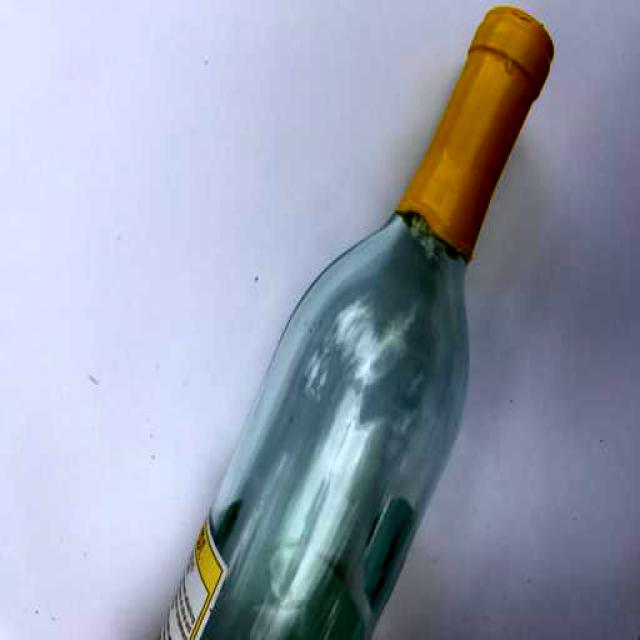Glass: (149, 0, 564, 640)
